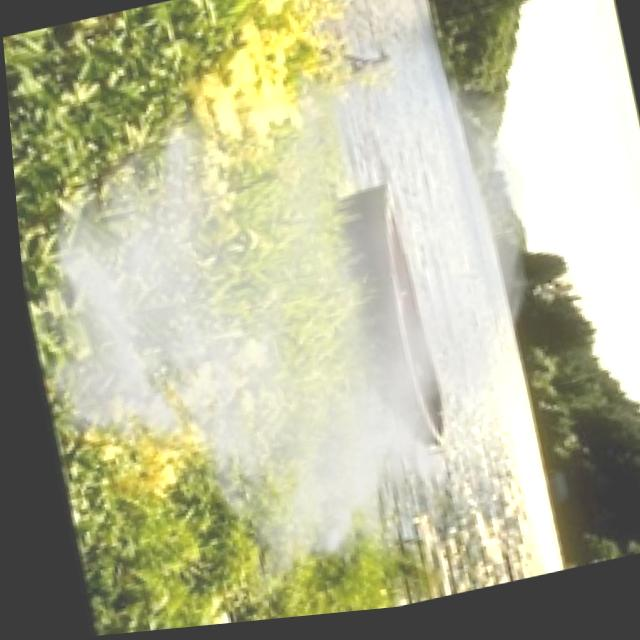Smoke: (7, 8, 598, 637)
